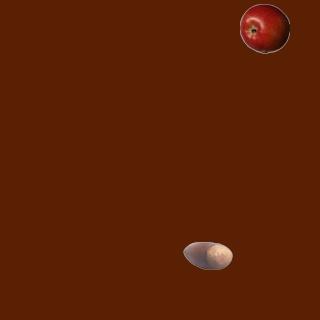Apple Braeburn: (239, 3, 289, 53)
Hazelnut: (182, 230, 232, 280)
